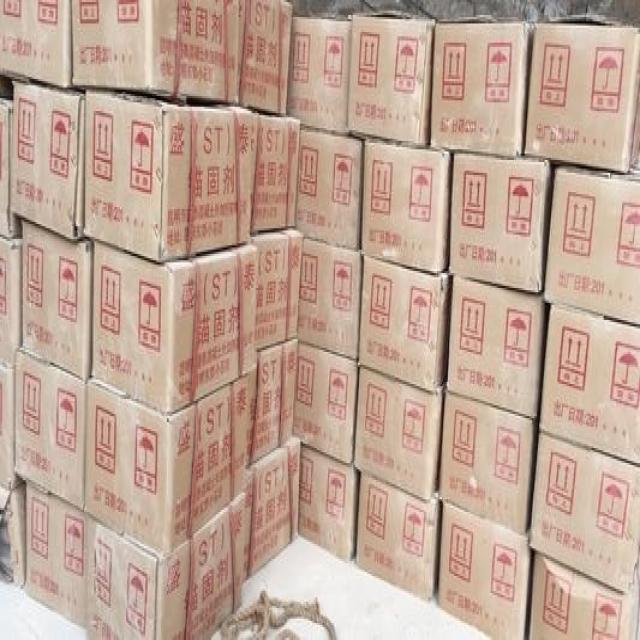box: (85, 373, 247, 557), (83, 90, 252, 262), (91, 241, 257, 414), (84, 489, 245, 640), (524, 13, 640, 173), (528, 433, 640, 593), (539, 303, 640, 467), (544, 160, 640, 324), (429, 15, 534, 158), (449, 151, 554, 294), (447, 275, 544, 420), (438, 393, 537, 535), (437, 499, 531, 640), (358, 254, 453, 393), (360, 139, 453, 277), (354, 367, 445, 501), (14, 343, 86, 510), (10, 81, 84, 243), (355, 469, 444, 602), (22, 220, 94, 382), (346, 11, 433, 143), (71, 2, 179, 98), (528, 550, 632, 640), (25, 480, 86, 627), (244, 437, 301, 587), (293, 337, 358, 465), (297, 126, 364, 250), (297, 237, 361, 361), (225, 2, 293, 117), (299, 444, 361, 561), (289, 15, 352, 130), (245, 339, 297, 471), (250, 226, 303, 352), (0, 0, 71, 90), (250, 113, 298, 235), (174, 0, 227, 102), (0, 361, 26, 491), (0, 100, 20, 241), (0, 484, 26, 589), (0, 235, 20, 371)
